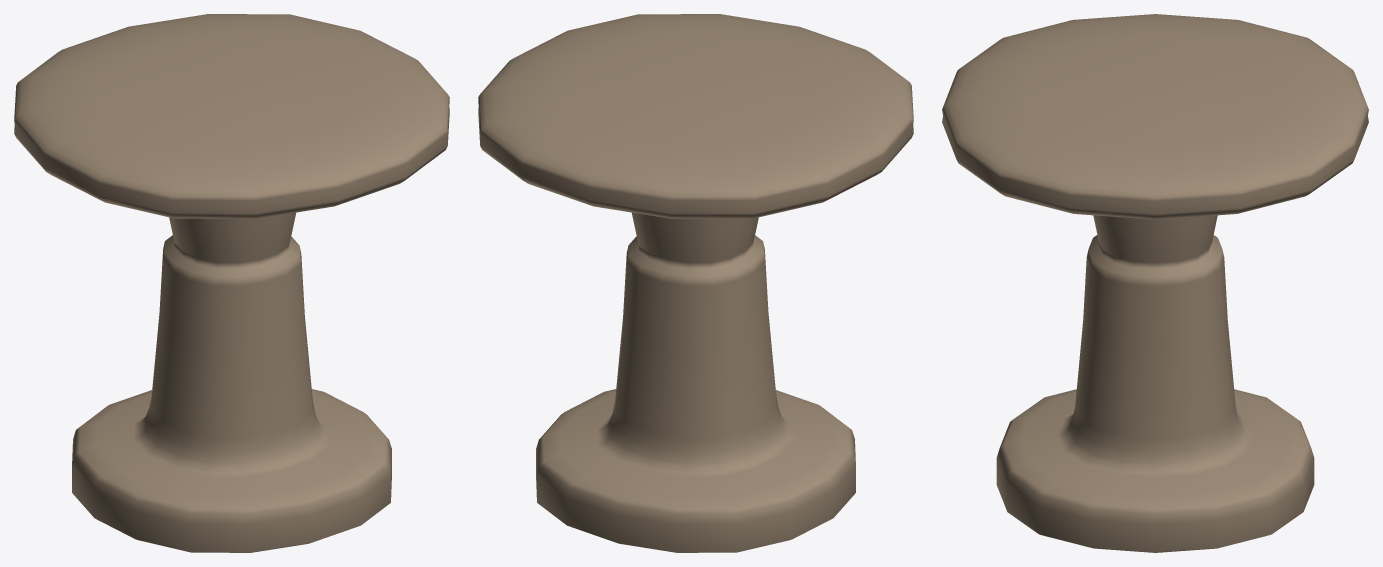
File: plastic_chair_tall.fbx
3 renders of one model, left to right at view 1: azimuth 30°, elevation 25°; view 2: azimuth 150°, elevation 25°; view 3: azimuth 270°, elevation 25°, orthographic.
Visible parts, largest first — view 1: plastic_chair_tall; view 2: plastic_chair_tall; view 3: plastic_chair_tall.
Part boxes in pixels (x1=…): plastic_chair_tall: x1=14, y1=14, x2=449, y2=552; plastic_chair_tall: x1=478, y1=14, x2=913, y2=552; plastic_chair_tall: x1=942, y1=14, x2=1368, y2=552.
Bounding box in the file's own units: 75.95 × 78.41 × 74.79.
